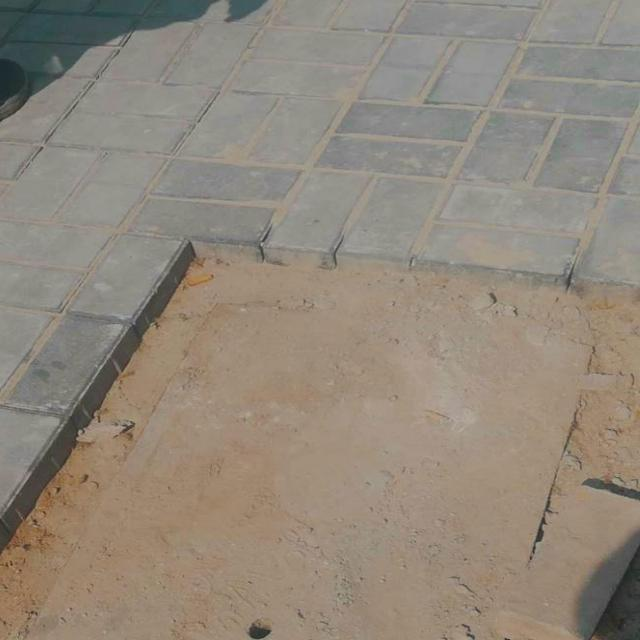circle: (0, 266, 640, 640)
